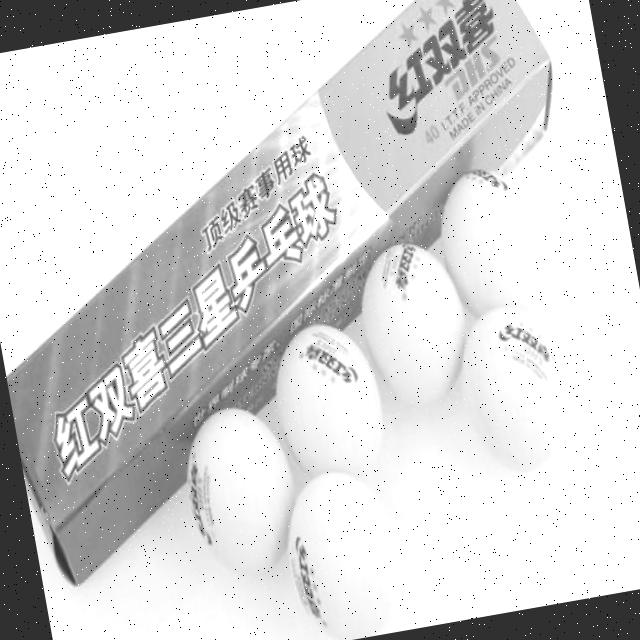ping-pong-ball: (168, 388, 308, 586), (269, 456, 409, 640), (346, 225, 478, 420), (258, 307, 392, 495), (444, 292, 576, 476), (434, 160, 548, 326)
